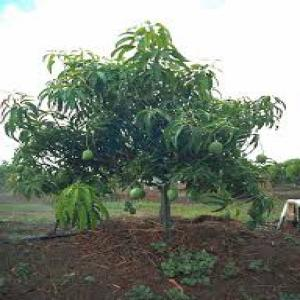Tree: (2, 19, 284, 243)
